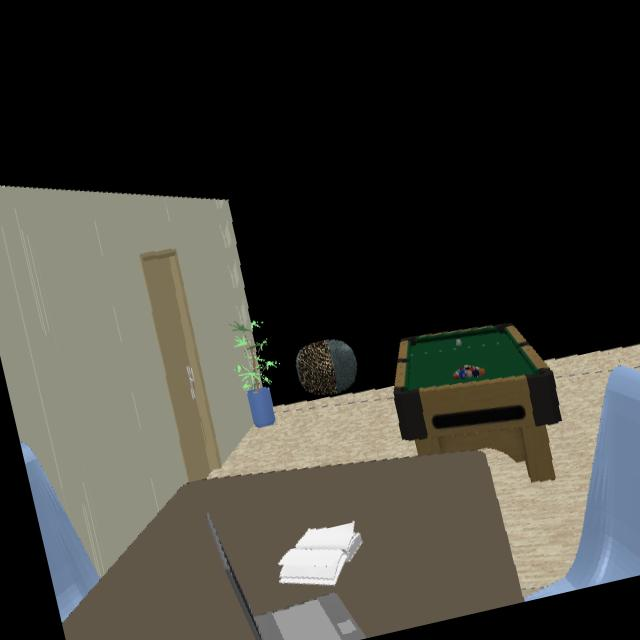book: (272, 519, 365, 595)
chair: (524, 366, 640, 601), (24, 459, 97, 621)
laptop: (207, 513, 367, 640)
table: (62, 451, 524, 640)
